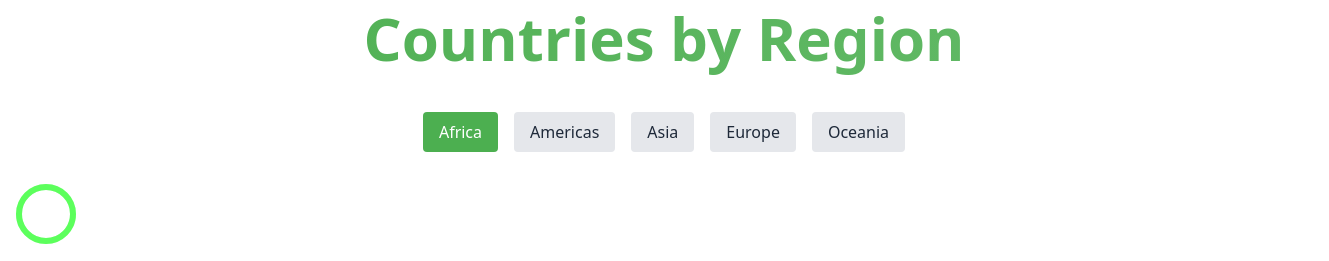
Test case: Region Component Intergration › displays error message when no countries found
Click the button "Asia" at [663, 132], box 631,112 -> 694,152
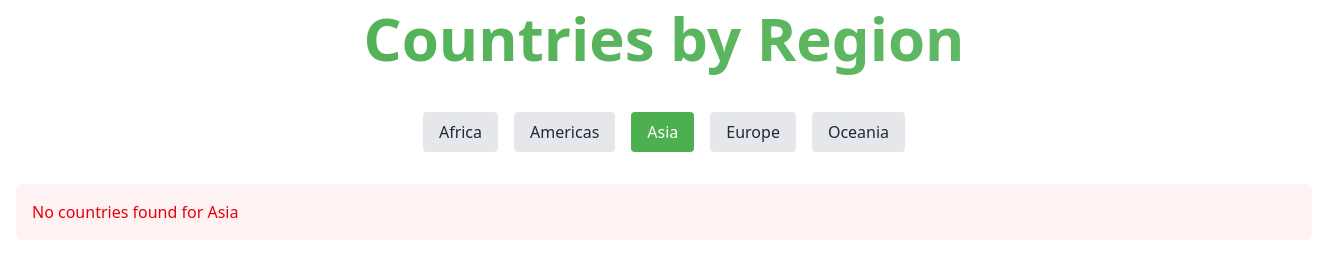
expect the element with test id "error-message" reads "No countries found for Asia": met, box 16,184 -> 1312,240
